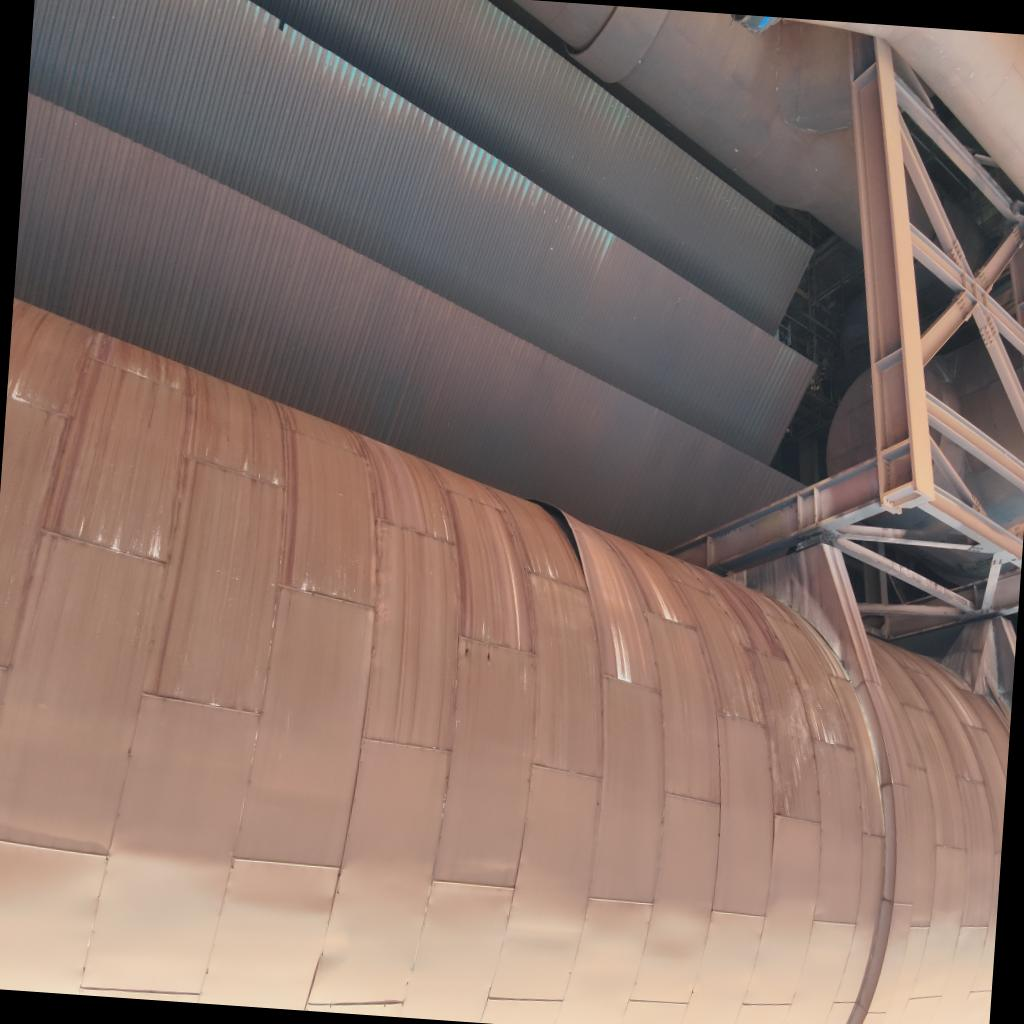Failures: (490, 447, 671, 710)
